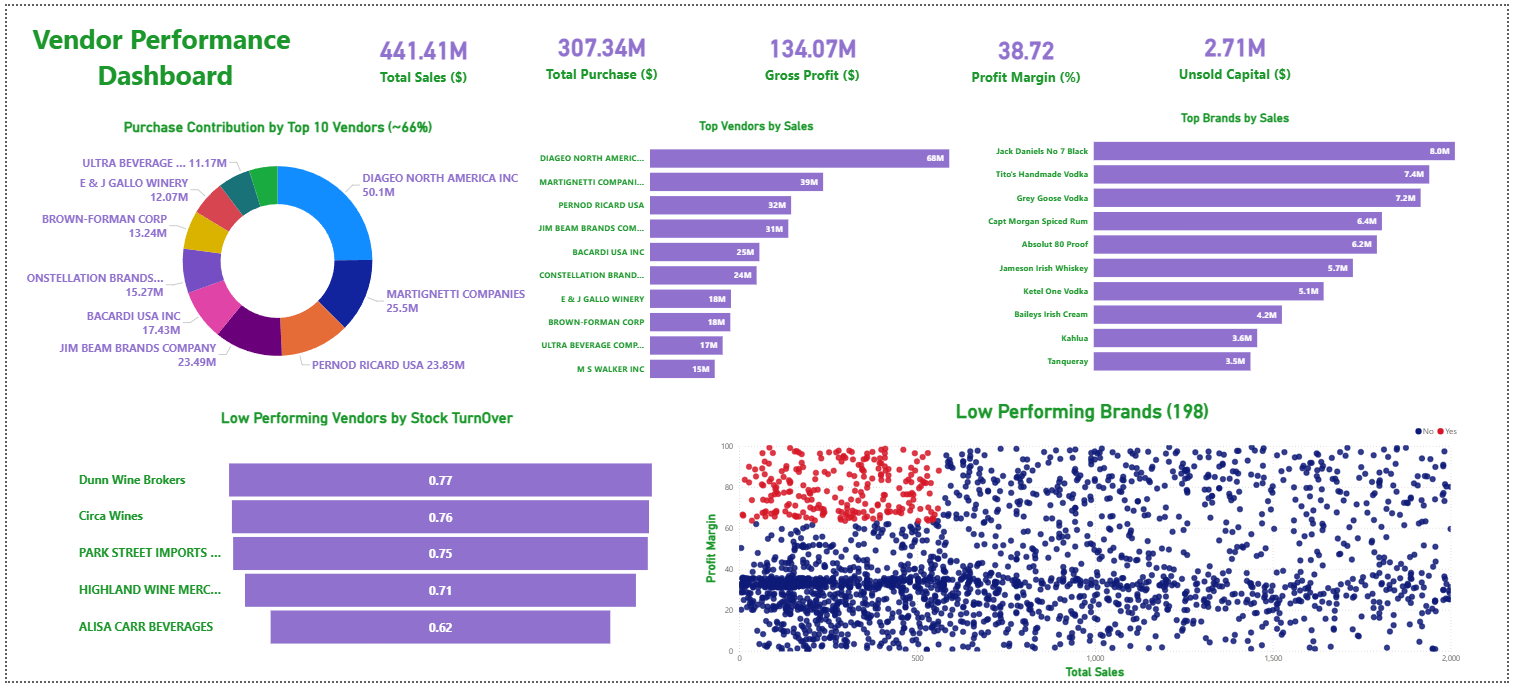

The dashboard page shown, as its layout file describes it:
{"tool":"powerbi","page":{"name":"Page 1","canvas":[2400,1080],"ordinal":0},"visuals":[{"type":"card","fields":{"Values":["Sum(vendorSummary.TotalSalesDollars)"]},"box":[576,26,182,112],"z":0},{"type":"card","fields":{"Values":["Sum(vendorSummary.TotalPurchasedDollar)"]},"box":[848,18,208,120],"z":1000},{"type":"card","fields":{"Values":["Sum(vendorSummary.GrossProfit)"]},"box":[1200,18,178,122],"z":2000},{"type":"card","fields":{"Values":["Avg(vendorSummary.ProfitMargin)"]},"box":[1532,22,198,120],"z":3000},{"type":"card","fields":{"Values":["Sum(vendorSummary.UnsoldInventoryValue)"]},"box":[1864,16,202,122],"z":4000},{"type":"barChart","title":"Top Vendors by Sales","fields":{"Y":["Sum(vendorSummary.TotalSalesDollars)"],"Category":["vendorSummary.VendorName"]},"box":[834,180,730,436],"z":5000},{"type":"barChart","title":"Top Brands by Sales","fields":{"Y":["Sum(vendorSummary.TotalSalesDollars)"],"Category":["vendorSummary.Description"]},"box":[1564,168,802,436],"z":6000},{"type":"donutChart","title":"Purchase Contribution by Top 10 Vendors (~66%)","fields":{"Category":["vendorSummary.VendorName"],"Y":["Sum(vendorSummary.TotalPurchasedDollar)"]},"box":[32,180,802,430],"z":6001},{"type":"funnel","title":"Low Performing Vendors by Stock TurnOver","fields":{"Category":["vendorSummary.VendorName"],"Y":["Avg(vendorSummary.StockTurnOver)"]},"box":[110,644,932,436],"z":6002},{"type":"scatterChart","title":"Low Performing Brands (198)","fields":{"Category":["vendorSummary.Description","vendorSummary.target_brand"],"X":["Sum(vendorSummary.TotalSalesDollars)"],"Y":["Avg(vendorSummary.ProfitMargin)"],"Series":["vendorSummary.target_brand"]},"box":[1110,630,1220,450],"z":6003},{"type":"textbox","box":[16,18,474,150],"z":6004}]}

Visuals, with their boxes in screenshot pixels (x1, y1, x2, y2), scaled from the page's 2400x1080 canvas onto the 1515x688 screenshot:
card - Sum(vendorSummary.TotalSalesDollars): 364 17 478 88
card - Sum(vendorSummary.TotalPurchasedDollar): 535 11 667 88
card - Sum(vendorSummary.GrossProfit): 758 11 870 89
card - Avg(vendorSummary.ProfitMargin): 967 14 1092 90
card - Sum(vendorSummary.UnsoldInventoryValue): 1177 10 1304 88
"Top Vendors by Sales" barChart: 526 115 987 392
"Top Brands by Sales" barChart: 987 107 1494 385
"Purchase Contribution by Top 10 Vendors (~66%)" donutChart: 20 115 526 389
"Low Performing Vendors by Stock TurnOver" funnel: 69 410 658 687
"Low Performing Brands (198)" scatterChart: 701 401 1471 687
textbox: 10 11 309 107
